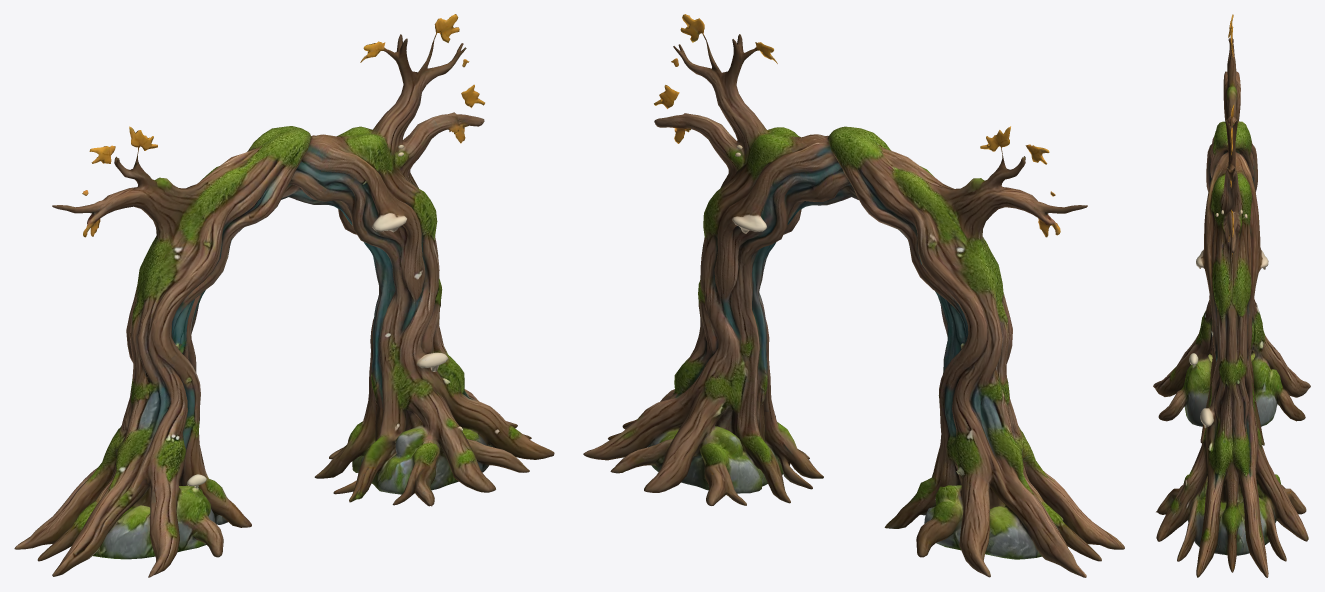
Rendered from forest-gateway.glb.
The picture shows the model from 3 angles, left to right: view 1: azimuth 30°, elevation 25°; view 2: azimuth 150°, elevation 25°; view 3: azimuth 270°, elevation 25°; orthographic projection. The views are drawn at different scales.
Visible parts, largest first — view 1: model; view 2: model; view 3: model.
Boxes of the visible parts, left/top/right/bottom form: model: left=14, top=14, right=554, bottom=577; model: left=583, top=14, right=1124, bottom=577; model: left=1153, top=14, right=1310, bottom=577.
Size of the model in its own units: 7.4 by 6.3 by 2.2.
Materials: 1 (1 with a texture image).
